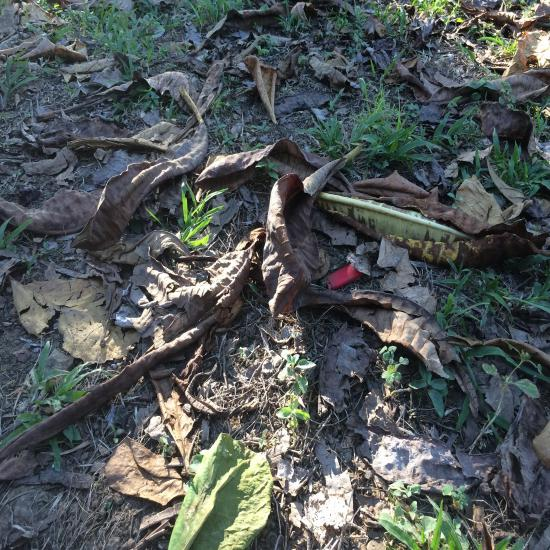Unlabeled litter: (320, 264, 365, 291)
